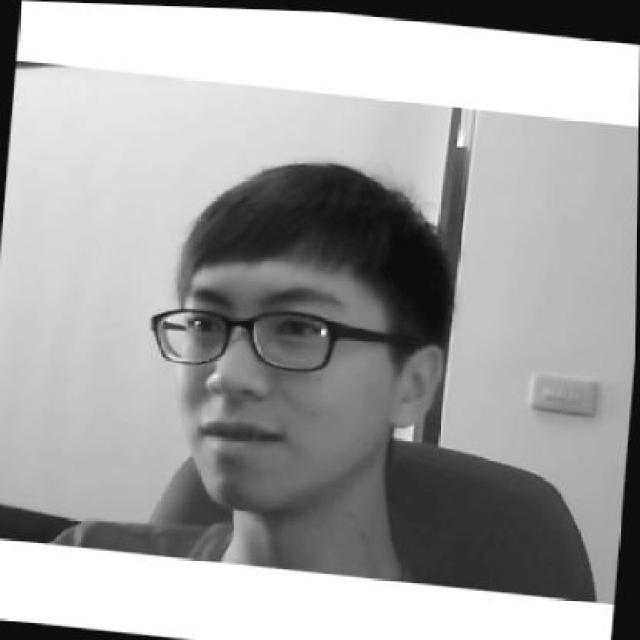attentif: (135, 141, 457, 525)
